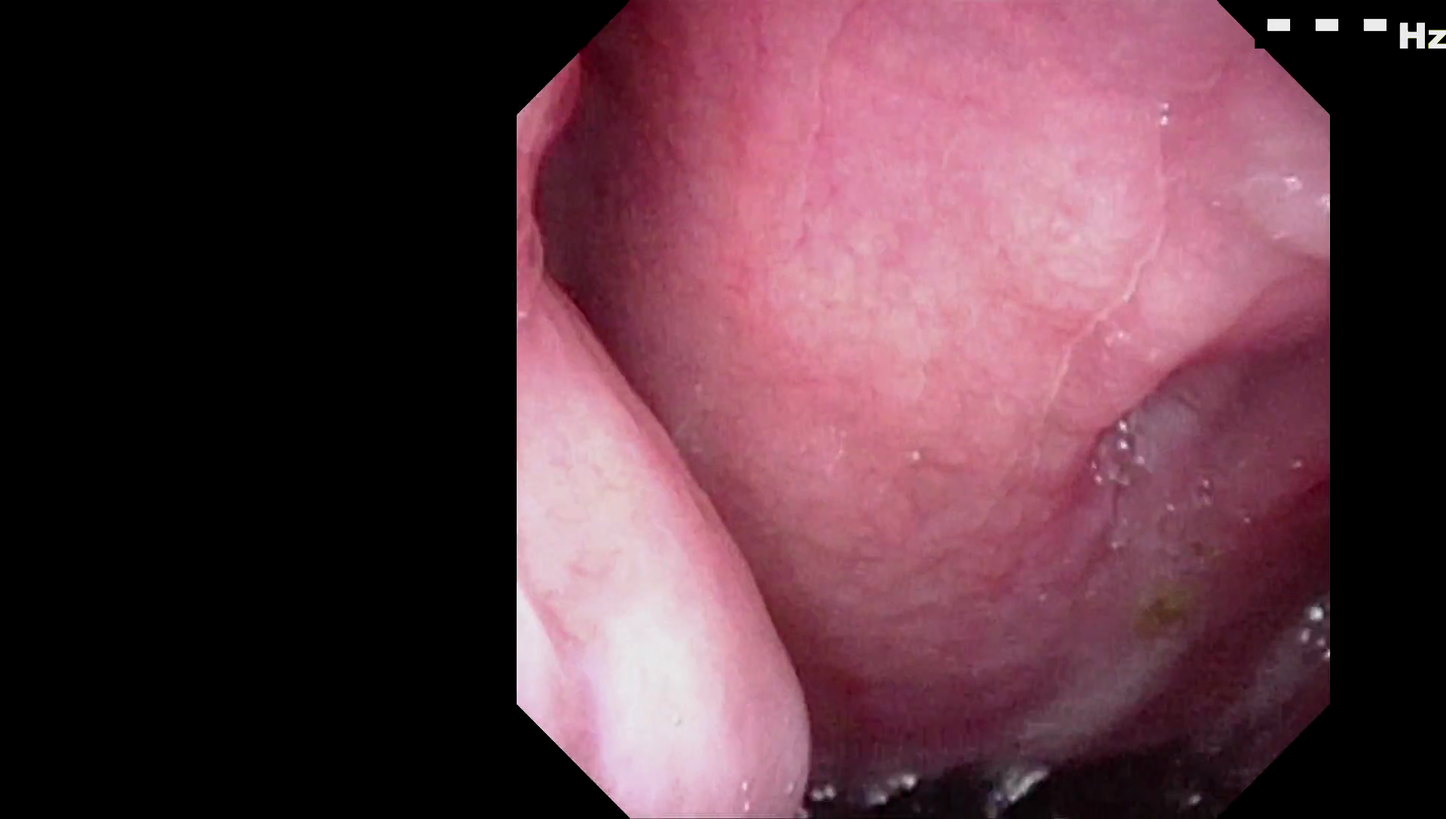close_wall: (524, 302, 806, 805)
next: (770, 696, 1269, 819)
